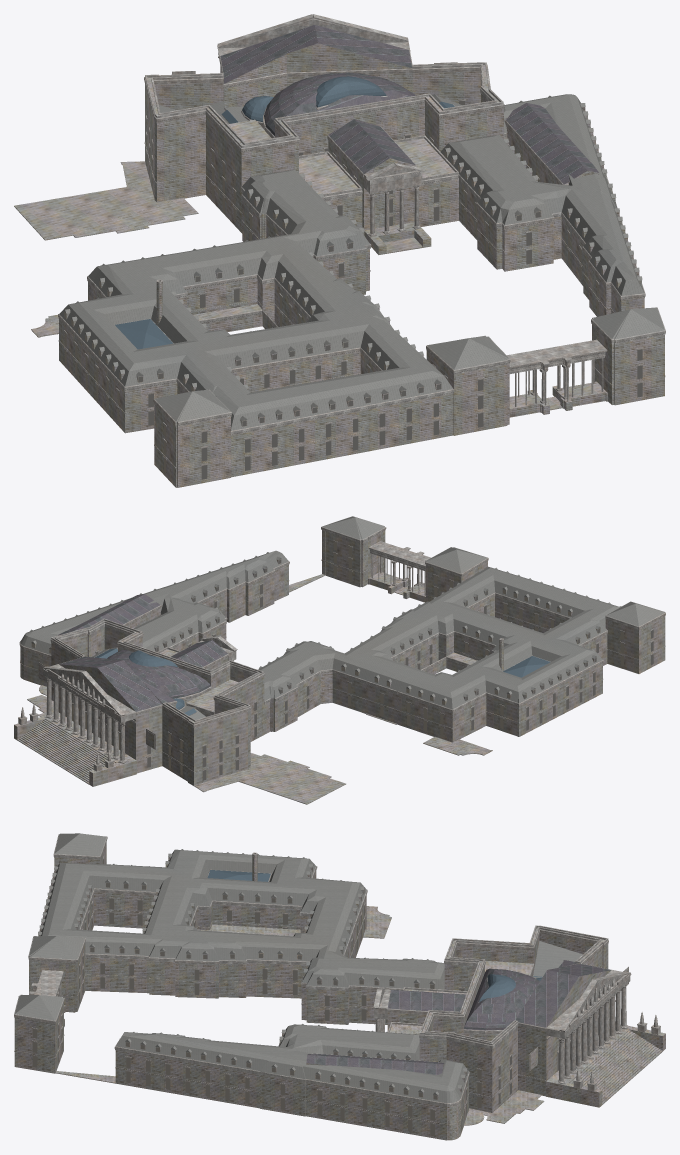
Rendered from palais-bourbon.glb.
3 renders of one model, top to bottom at view 1: azimuth 30°, elevation 25°; view 2: azimuth 150°, elevation 25°; view 3: azimuth 270°, elevation 25°, orthographic. The views are drawn at different scales.
Parts seen in each view (by area): view 1: stone, roof, trim, metal, window, glass; view 2: stone, roof, trim, metal, window, glass; view 3: stone, roof, trim, metal, window, glass.
Part boxes in pixels (x1=…): stone: x1=14, y1=43, x2=665, y2=487; roof: x1=59, y1=94, x2=664, y2=430; trim: x1=58, y1=14, x2=665, y2=465; metal: x1=220, y1=25, x2=598, y2=184; window: x1=64, y1=101, x2=642, y2=479; glass: x1=115, y1=76, x2=454, y2=349; stone: x1=14, y1=530, x2=665, y2=804; roof: x1=20, y1=516, x2=664, y2=719; trim: x1=18, y1=516, x2=665, y2=771; metal: x1=58, y1=594, x2=227, y2=711; window: x1=31, y1=541, x2=653, y2=780; glass: x1=95, y1=648, x2=550, y2=715; stone: x1=14, y1=842, x2=665, y2=1140; roof: x1=15, y1=833, x2=582, y2=1103; trim: x1=14, y1=834, x2=660, y2=1124; metal: x1=306, y1=960, x2=610, y2=1074; window: x1=32, y1=859, x2=598, y2=1135; glass: x1=207, y1=870, x2=542, y2=1002.
Bounding box in the file's own units: 164 × 27.4 × 178.
6 materials, 6 textured.
